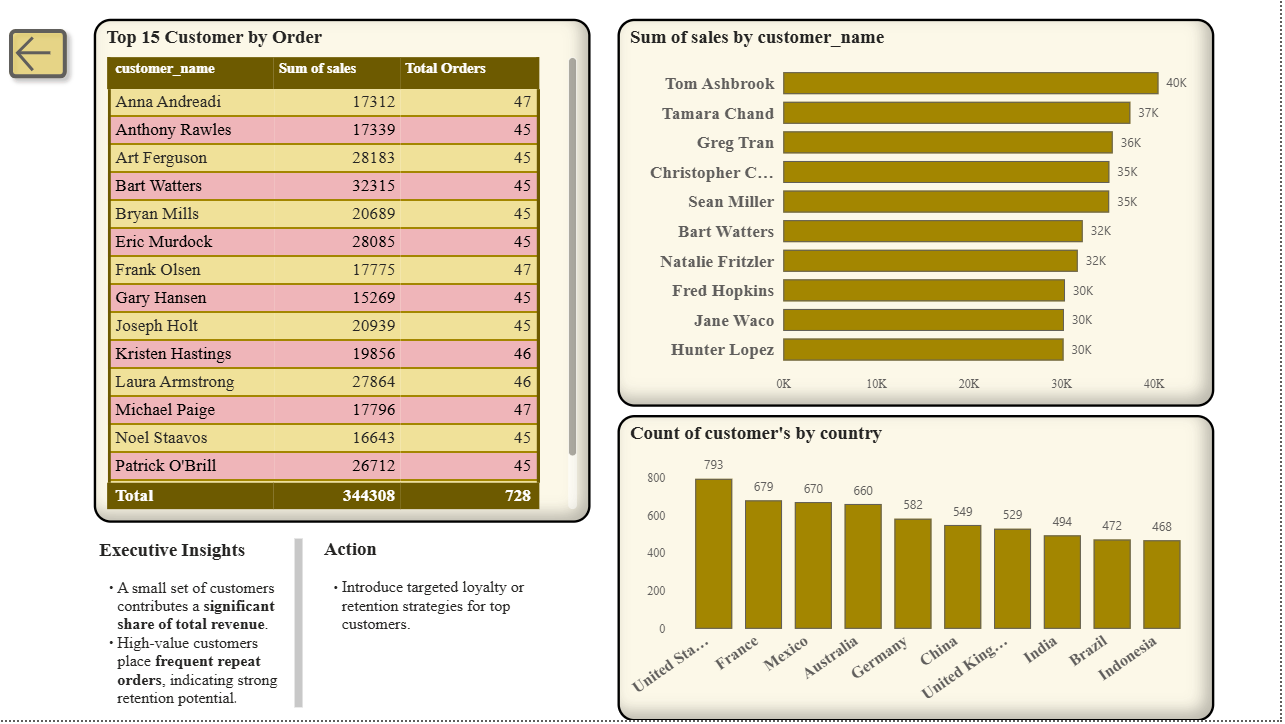

Layout of this report page (visuals, bound fields, positions):
{"tool":"powerbi","page":{"name":"Customer Insights","canvas":[1280,720],"ordinal":2},"visuals":[{"type":"barChart","fields":{"Y":["Sum(SuperStoreOrders.sales)"],"Category":["SuperStoreOrders.customer_name"]},"box":[617.5,19.2,596.9,388.3],"z":0},{"type":"tableEx","title":"Top 15 Customer by Order","fields":{"Values":["SuperStoreOrders.customer_name","Sum(SuperStoreOrders.sales)","SuperStoreOrders.Total Orders"]},"box":[93.3,19.2,496.7,503.6],"z":1000},{"type":"actionButton","box":[0,19.6,75.8,67.3],"z":2000},{"type":"columnChart","title":"Count of customer''s by country","fields":{"Category":["SuperStoreOrders.country"],"Y":["Count(SuperStoreOrders.customer_name)"]},"box":[617.5,414.4,596.9,306],"z":3000},{"type":"textbox","box":[93.3,533.8,214.1,186.6],"z":3001},{"type":"textbox","box":[318.4,533.8,223.7,177],"z":3002}]}

Visuals, with their boxes in screenshot pixels (x1, y1, x2, y2), scaled from the page's 1280x720 canvas onto the 1285x724 screenshot:
barChart - Sum(SuperStoreOrders.sales) x SuperStoreOrders.customer_name: [x1=620, y1=19, x2=1219, y2=410]
"Top 15 Customer by Order" tableEx: [x1=94, y1=19, x2=592, y2=526]
actionButton: [x1=0, y1=20, x2=76, y2=87]
"Count of customer''s by country" columnChart: [x1=620, y1=417, x2=1219, y2=723]
textbox: [x1=94, y1=537, x2=309, y2=723]
textbox: [x1=320, y1=537, x2=544, y2=715]
